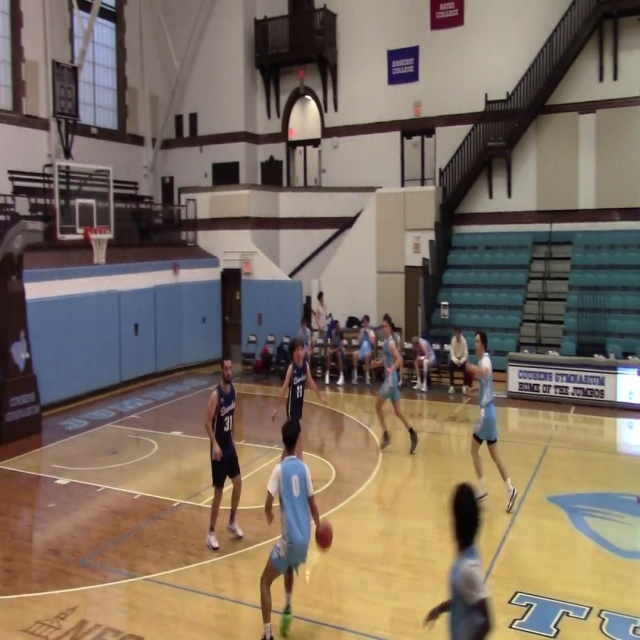Basketball: (314, 519, 333, 549)
